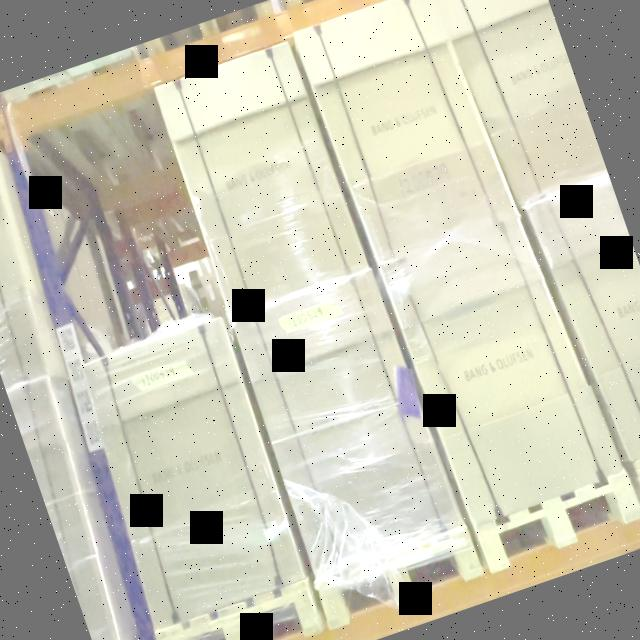box: (379, 212, 625, 527), (232, 271, 461, 576), (81, 317, 307, 625), (154, 41, 369, 316), (295, 0, 517, 261)
